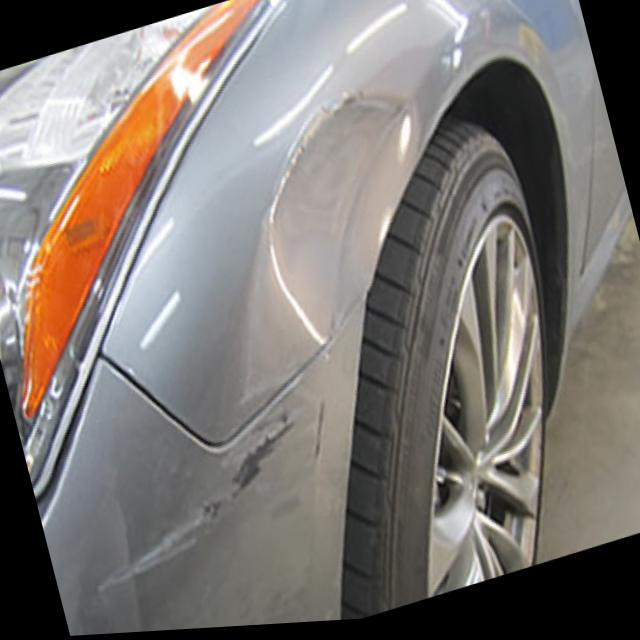Scratch: (110, 394, 308, 578)
